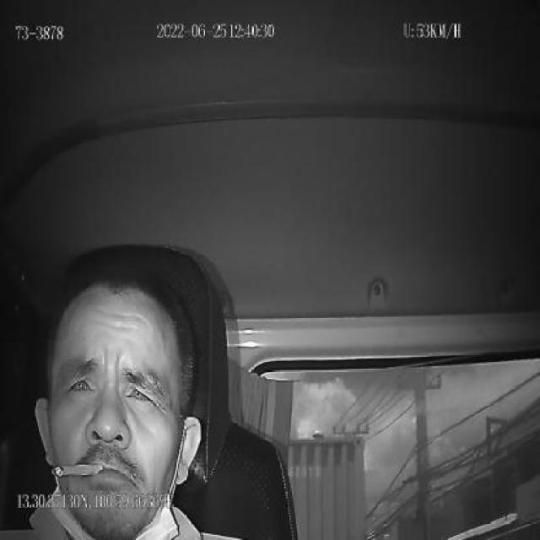smoking: (49, 461, 105, 479)
